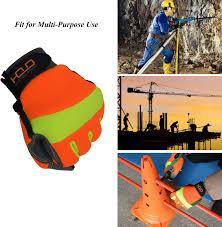gloves: (1, 47, 105, 171), (168, 181, 206, 211), (164, 153, 184, 180)
